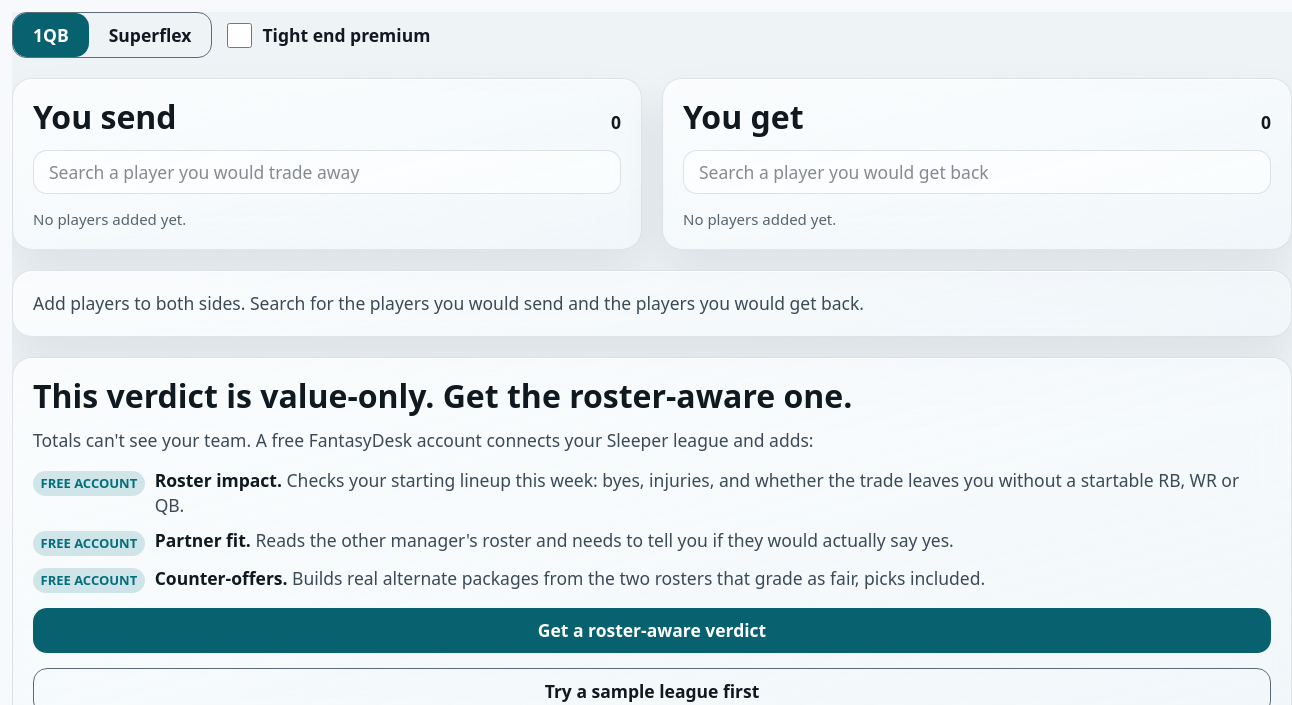
Test: PublicTradeAnalyzer › recomputes for Superflex and TE premium and never sends names or ids to analytics
Type "allen" into the dropdown named "Search players for You send". click: coordinates (327, 172)
box: [33, 150, 621, 194]
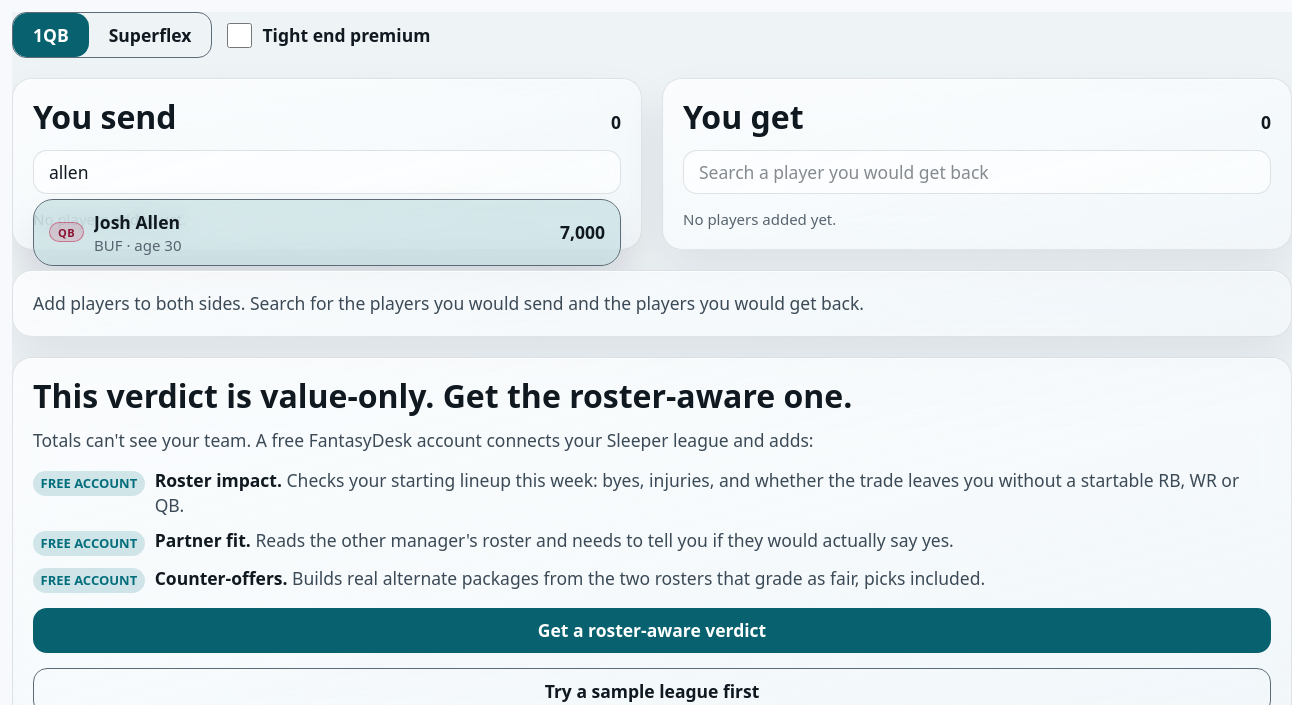
Press the mouse on the text "Josh Allen" at coordinates (137, 222), box [94, 210, 180, 234]
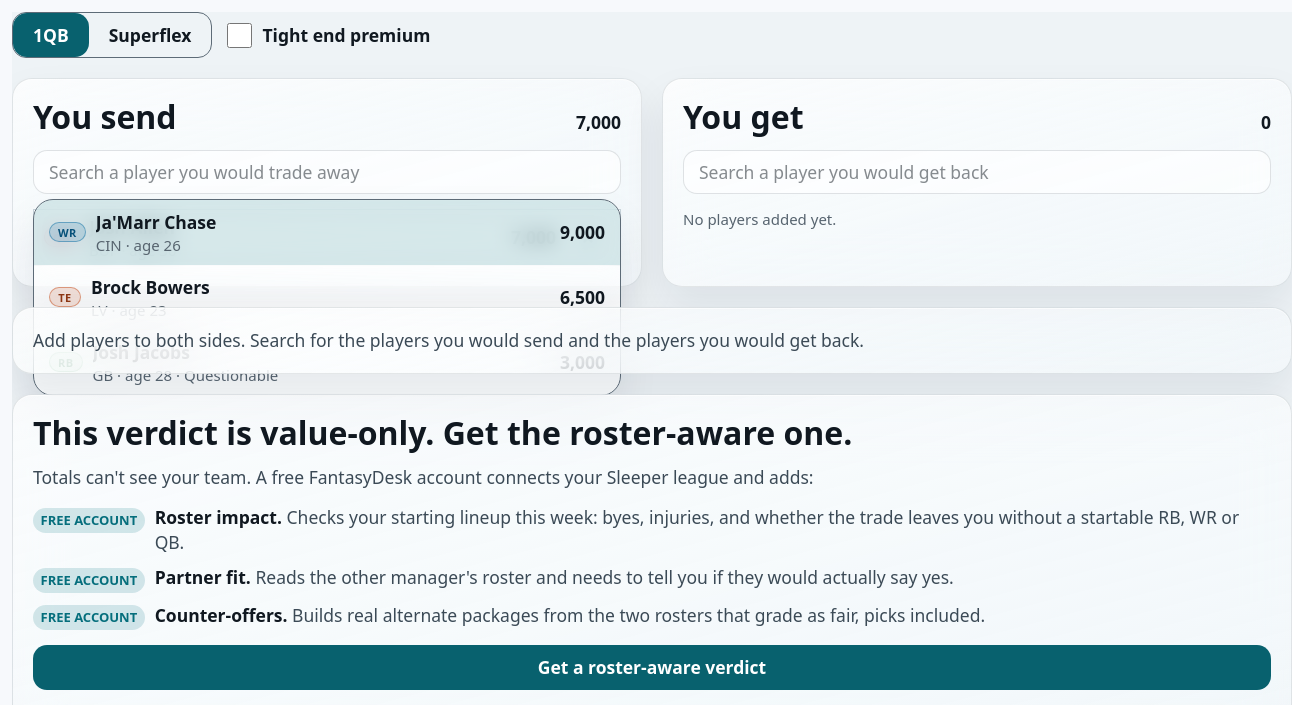
Type "chase" into the dropdown with placeholder "Search a player you would get back". click: coordinates (977, 172)
box: [683, 150, 1271, 194]
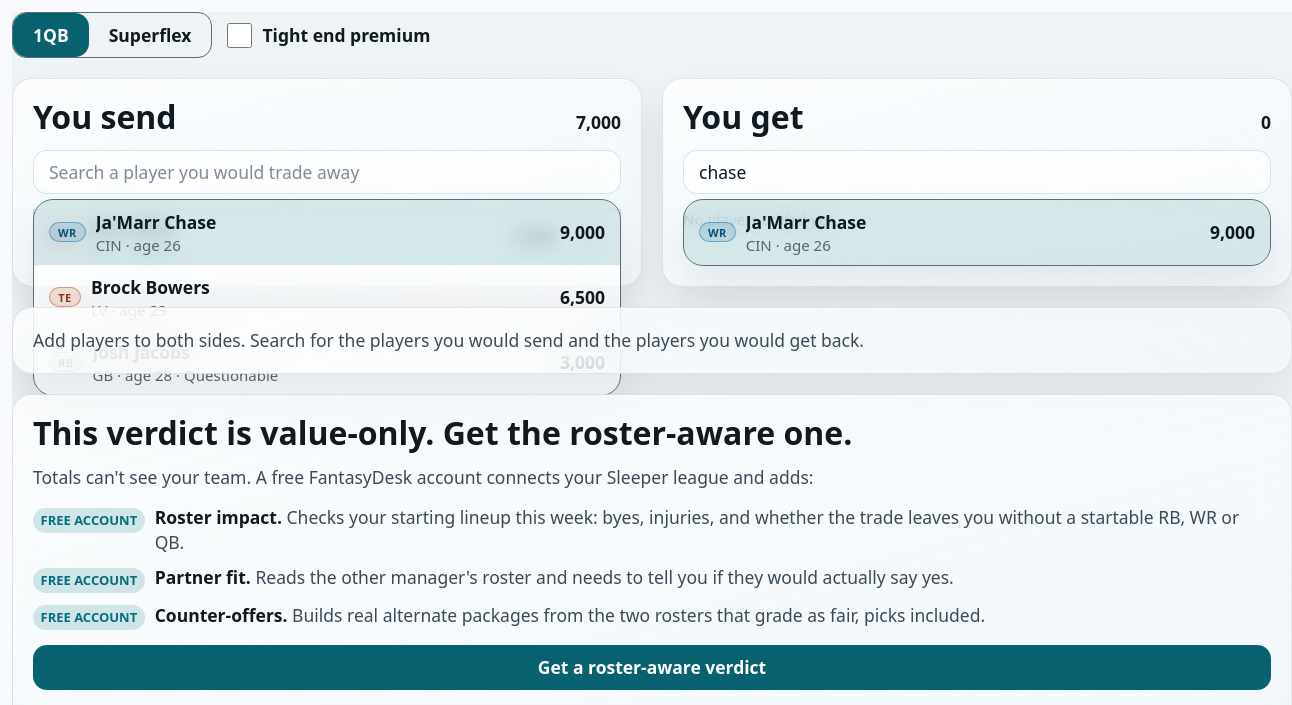
Press the mouse on the text "Ja'Marr Chase" next to "No players added yet." at coordinates (806, 222), box [746, 210, 866, 234]
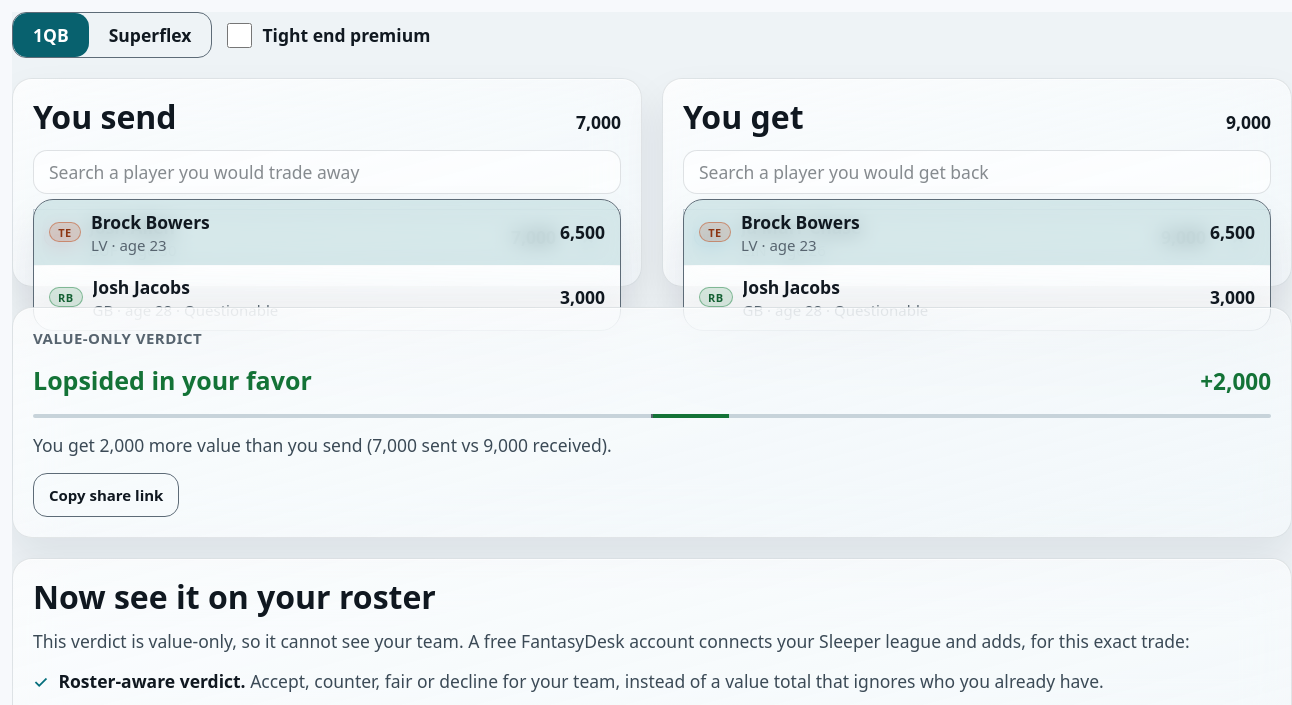
Check: the element with test id "trade-result" shows "Lopsided in your favor", box [33, 363, 312, 397]
Click the button "Superflex". click: coordinates (150, 35)
box: [89, 13, 211, 57]
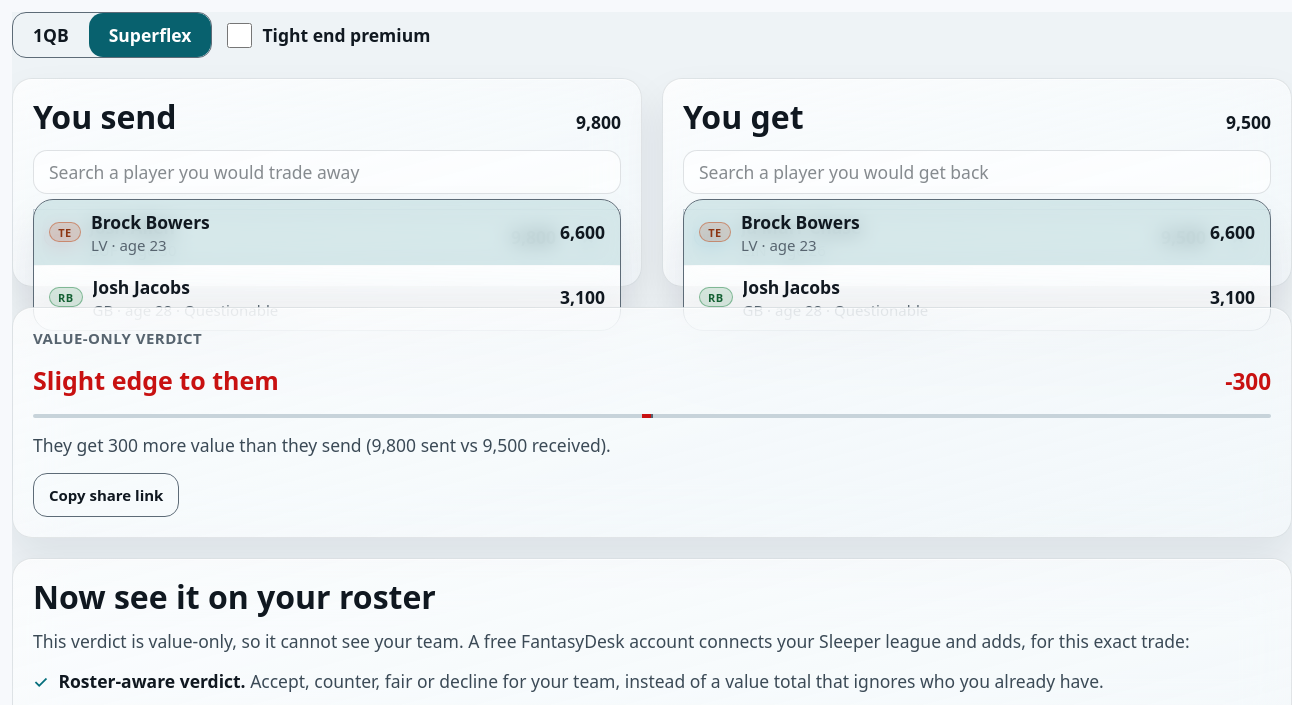
Check: the element with test id "trade-result" shows "Slight edge to them", box [33, 363, 279, 397]
